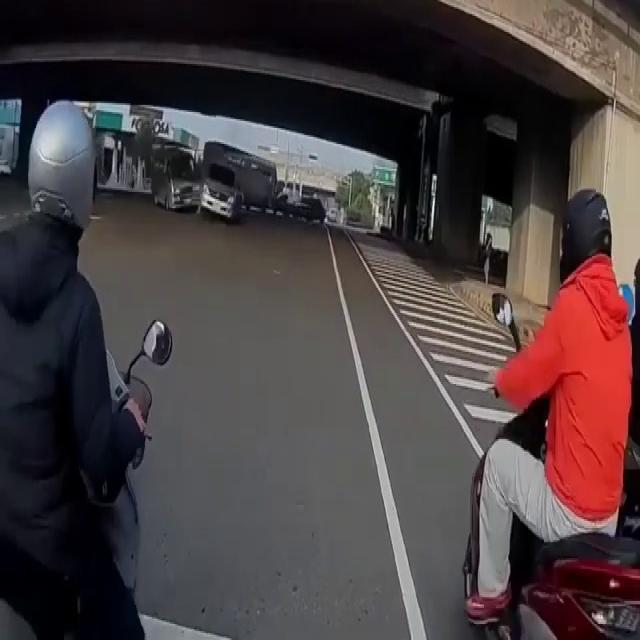moderate: (145, 150, 243, 226)
